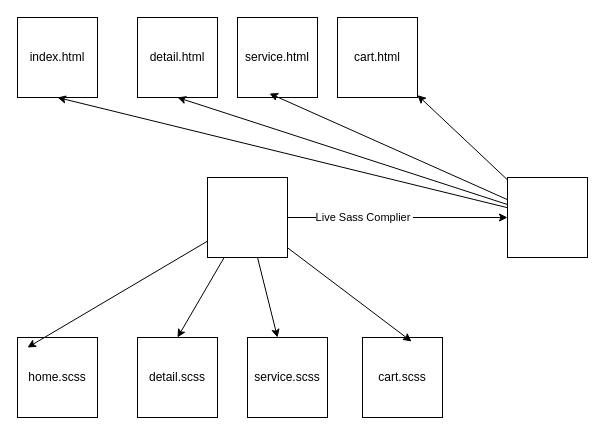
The diagram is 605 pixels wide and 435 high, and some of its shapes have lost their labels. The shapes that lost their labels are listed below. From the top down, each one's box as (x1, y1, x2, y2) in pixels, then its label:
(206, 176, 288, 258): style.scss
(506, 176, 588, 258): style.css
